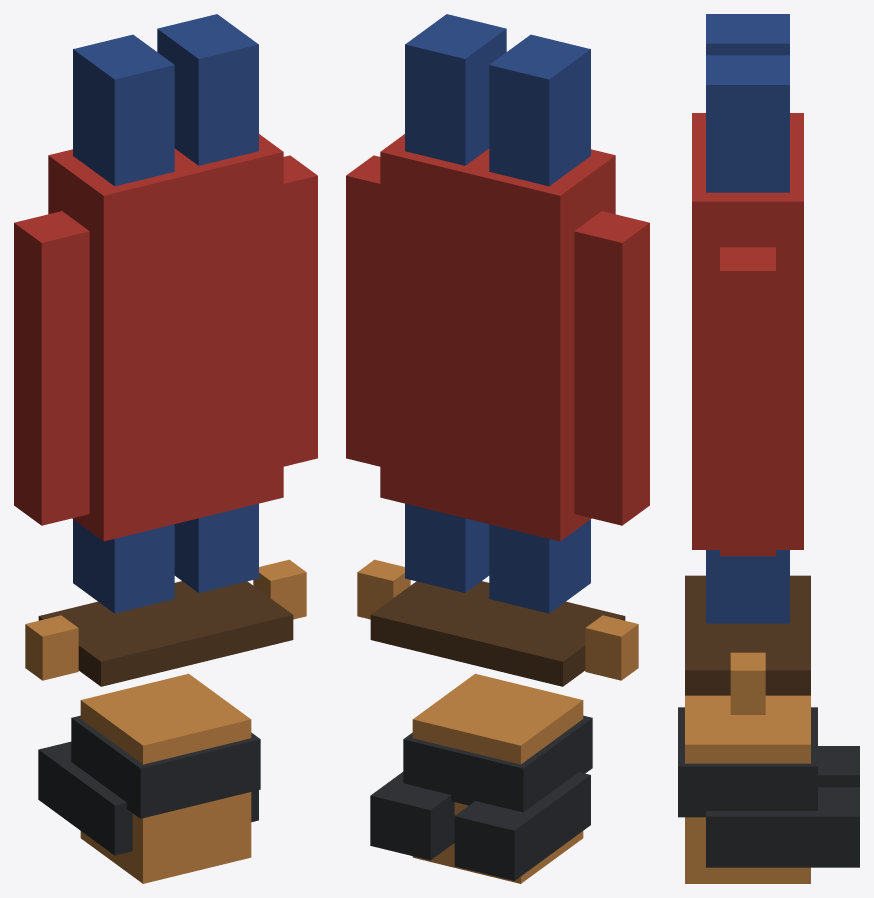
File: civilian-001.glb
3 views of the same model, side by side, from view 1: azimuth 30°, elevation 25°; view 2: azimuth 150°, elevation 25°; view 3: azimuth 270°, elevation 25° (orthographic).
Parts seen in each view (by area): view 1: civilian_civilian-001; view 2: civilian_civilian-001; view 3: civilian_civilian-001.
Boxes of the visible parts, bbox=[...] form: civilian_civilian-001: bbox=[14, 14, 317, 883]; civilian_civilian-001: bbox=[346, 14, 649, 883]; civilian_civilian-001: bbox=[678, 14, 859, 883].
Bounding box in the file's own units: 0.46 × 1.28 × 0.26.
